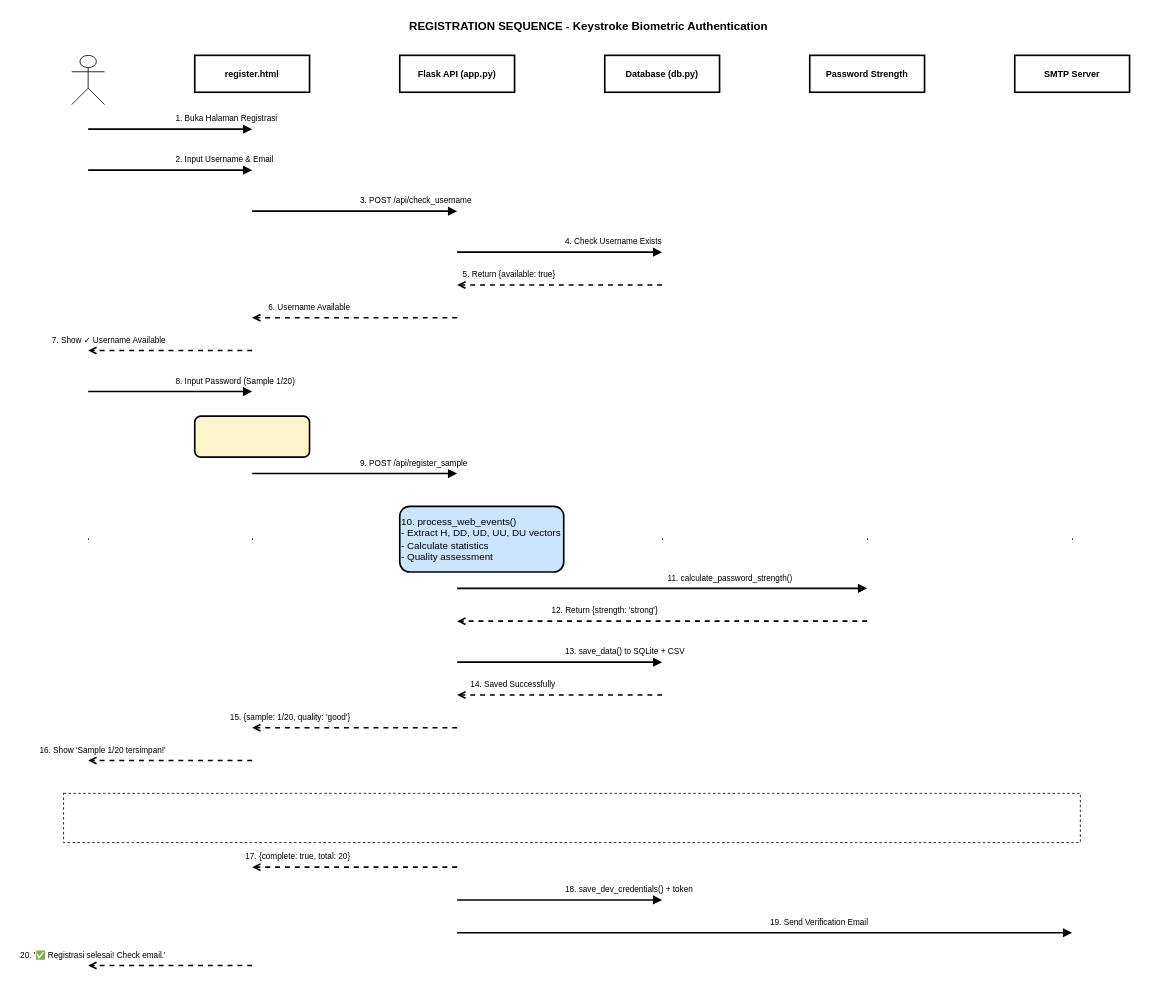
Some shapes in this 1176 by 1000 pixel diagram are drawn without their labels. The box of each missing label's shape, as (x1, y1, x2, y2) in pixels:
[LOOP] Repeat steps 8-16 for samples 2-20: (63, 793, 1080, 843)
Capture Keystroke Events: (194, 415, 310, 458)
Pengguna: (71, 55, 105, 105)
